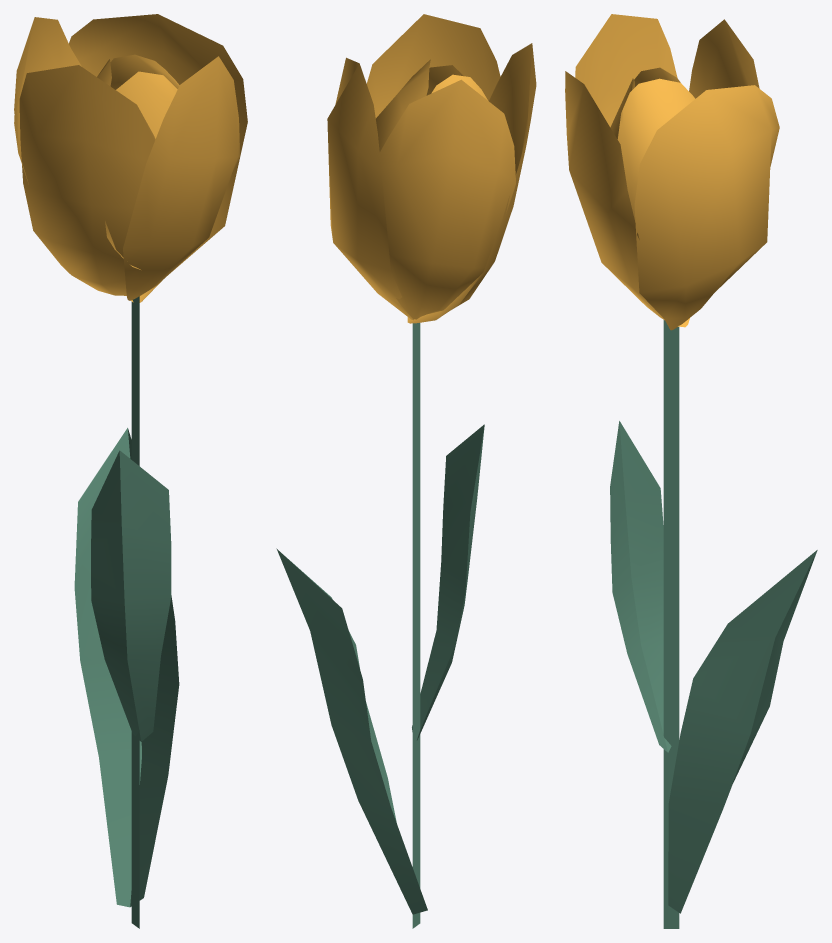
The model's file is SM_Tulip_Yellow.fbx.
3 views of the same model, side by side, from view 1: azimuth 30°, elevation 25°; view 2: azimuth 150°, elevation 25°; view 3: azimuth 270°, elevation 25° (orthographic). The views are drawn at different scales.
Visible parts, largest first — view 1: Plane.020, Plane.017, Plane.018, Plane.019; view 2: Plane.020, Plane.018, Plane.017, Plane.019; view 3: Plane.020, Plane.018, Plane.017, Plane.019.
Boxes of the visible parts, box(x1,y1,x2,y2) form: Plane.020: box(14, 14, 247, 302); Plane.017: box(91, 450, 171, 741); Plane.018: box(74, 428, 179, 907); Plane.019: box(131, 296, 139, 928); Plane.020: box(327, 14, 536, 323); Plane.018: box(276, 548, 427, 914); Plane.017: box(412, 424, 484, 740); Plane.019: box(412, 323, 420, 928); Plane.020: box(565, 14, 779, 330); Plane.018: box(668, 550, 817, 913); Plane.017: box(610, 421, 671, 752); Plane.019: box(663, 320, 679, 928).
Bounding box in the file's own units: 8.56 × 35.34 × 9.25.
